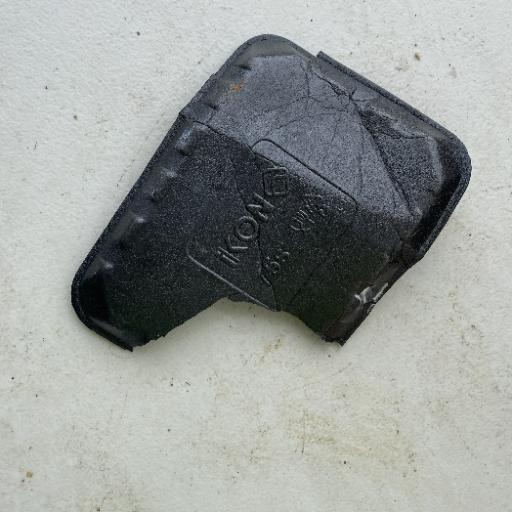Plastic: (68, 32, 473, 355)
